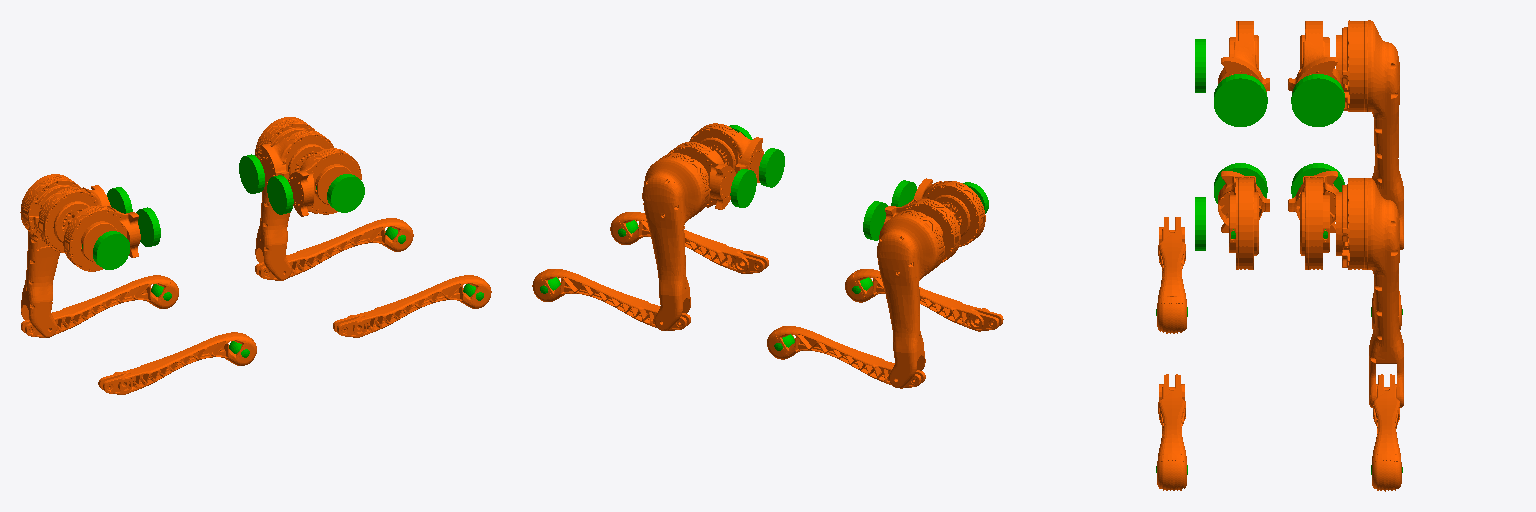
--- Render facts (derived) ---
3 views of the same robot in one strip: view 1: azimuth 30°, elevation 25°; view 2: azimuth 150°, elevation 25°; view 3: azimuth 270°, elevation 25° (orthographic).
Model b1_description with 30 links and 29 joints (12 revolute, 16 fixed, 1 floating), rooted at base, posed joints at zero except 4 at the middle of their limits (FR_calf_joint = -1.6, FL_calf_joint = -1.6, RR_calf_joint = -1.6, RL_calf_joint = -1.6).
Visible links, largest first — view 1: RL_thigh, FR_calf, RR_calf, FL_thigh, RR_hip, FR_hip, FL_calf, RL_calf, RL_hip, FL_hip, FR_calf_rotor, RR_calf_rotor (+3 smaller); view 2: RL_thigh, FL_thigh, RL_calf, FL_calf, FR_calf, RR_calf, RR_hip, FR_hip, FL_hip, RL_hip, FR_hip_rotor, FL_hip_rotor (+1 smaller); view 3: FL_thigh, RL_thigh, FR_hip, FL_hip, FR_calf, RR_calf, FL_calf, RR_hip_rotor, RL_hip_rotor, RL_hip, RR_hip, FR_hip_rotor (+3 smaller).
Boxes of the visible links, x1,y1,x2,y2 form: RL_thigh: (20,174,80,337); FR_calf: (333,275,491,337); RR_calf: (98,332,256,394); FL_thigh: (255,117,314,280); RR_hip: (63,206,140,271); FR_hip: (288,148,361,216); FL_calf: (255,218,413,280); RL_calf: (21,275,178,337); RL_hip: (38,185,110,252); FL_hip: (260,130,333,189); FR_calf_rotor: (327,174,364,212); RR_calf_rotor: (93,231,129,269); RL_thigh: (877,210,944,387); FL_thigh: (642,153,710,330); RL_calf: (767,326,925,388); FL_calf: (532,269,690,330); FR_calf: (610,212,768,273); RR_calf: (845,269,1003,331); RR_hip: (913,178,985,246); FR_hip: (689,123,763,182); FL_hip: (668,142,735,209); RL_hip: (884,199,960,263); FR_hip_rotor: (759,148,784,187); FL_hip_rotor: (730,169,756,207); FL_thigh: (1336,178,1403,407); RL_thigh: (1336,20,1403,249); FR_hip: (1218,171,1269,269); FL_hip: (1288,171,1338,269); FR_calf: (1157,374,1186,490); RR_calf: (1157,217,1186,333); FL_calf: (1372,374,1401,491); RR_hip_rotor: (1214,74,1267,126); RL_hip_rotor: (1291,74,1344,126); RL_hip: (1288,21,1340,91); RR_hip: (1218,21,1269,91); FR_hip_rotor: (1214,163,1267,203).
Size in the robot's own frame: 1.17 by 0.4595 by 0.465 metres.
Meshes: 5 distinct files referenced, 10 mesh visuals loaded (3 OBJ); not drawn: 3 (reference not matched to a file when rendering).

The robot description file, URDF, robot "b1_description":
<?xml version="1.0" ?>
<!-- =================================================================================== -->
<!-- |    This document was autogenerated by xacro from robot.xacro                    | -->
<!-- |    EDITING THIS FILE BY HAND IS NOT RECOMMENDED                                 | -->
<!-- =================================================================================== -->
<robot name="b1_description">
  <mujoco>
    <compiler meshdir="../meshes/" balanceinertia="true" discardvisual="false"/>
  </mujoco>
  <material name="black">
    <color rgba="0.0 0.0 0.0 1.0"/>
  </material>
  <material name="blue">
    <color rgba="0.0 0.0 0.8 1.0"/>
  </material>
  <material name="green">
    <color rgba="0.0 0.8 0.0 1.0"/>
  </material>
  <material name="grey">
    <color rgba="0.2 0.2 0.2 1.0"/>
  </material>
  <material name="silver">
    <color rgba="0.9137254901960784 0.9137254901960784 0.8470588235294118 1.0"/>
  </material>
  <material name="orange">
    <color rgba="1.0 0.4235294117647059 0.0392156862745098 1.0"/>
  </material>
  <material name="brown">
    <color rgba="0.8705882352941177 0.8117647058823529 0.7647058823529411 1.0"/>
  </material>
  <material name="red">
    <color rgba="0.8 0.0 0.0 1.0"/>
  </material>
  <material name="white">
    <color rgba="1.0 1.0 1.0 1.0"/>
  </material>
  
  <link name="base">
    <visual>
      <origin rpy="0 0 0" xyz="0 0 0"/>
      <geometry>
        <box size="0.001 0.001 0.001"/>
      </geometry>
    </visual>
  </link>
  <joint name="floating_base" type="floating">
    <origin rpy="0 0 0" xyz="0 0 0"/>
    <parent link="base"/>
    <child link="trunk"/>
  </joint>
  <link name="trunk">
    <visual>
      <origin rpy="1.5708 0 0" xyz="0 0 0"/>
      <geometry>
        <mesh filename="trunkb.obj" scale="1 1 1"/>
      </geometry>
      <material name="orange"/>
    </visual>
    <collision>
      <origin rpy="1.5708 0 0" xyz="0 0 0"/>
      <geometry>
        <mesh filename="trunkb.obj" scale="1 1 1"/>
      </geometry>
    </collision>
    <inertial>
      <origin rpy="0 0 0" xyz="0.008987 0.002243 0.003013"/>
      <mass value="29.45"/>
      <inertia ixx="0.183142146" ixy="-0.001379002" ixz="-0.027956055" iyy="0.756327752" iyz="0.000193774" izz="0.783777558"/>
    </inertial>
  </link>
  

  <joint name="FR_hip_joint" type="revolute">
    <origin rpy="0 0 0" xyz="0.3455 -0.072 0"/>
    <parent link="trunk"/>
    <child link="FR_hip"/>
    <axis xyz="1 0 0"/>
    <dynamics damping="0" friction="0"/>
    <limit effort="91.0035" lower="-0.75" upper="0.75" velocity="19.69"/>
  </joint>
  <joint name="FR_hip_rotor_joint" type="fixed">
    <origin rpy="0 0 0" xyz="0.1955 -0.072 0"/>
    <parent link="trunk"/>
    <child link="FR_hip_rotor"/>
  </joint>
  <link name="FR_hip">
    <visual>
      <origin rpy="1.57079632679 0 0" xyz="0 0 0"/>
      <geometry>
        <mesh filename="hipb.obj" scale="1 1 1"/>
      </geometry>
      <material name="orange"/>
    </visual>
    <collision>
      <origin rpy="1.57079632679 0 0" xyz="0 0 0"/>
      <geometry>
        <mesh filename="hipb.obj" scale="1 1 1"/>
      </geometry>
    </collision>
    <inertial>
      <origin rpy="0 0 0" xyz="-0.020298 -0.009758 0.000109"/>
      <mass value="2.15"/>
      <inertia ixx="0.00406608" ixy="0.000288071" ixz="-4.371e-06" iyy="0.008775259" iyz="-1.811e-06" izz="0.006060348"/>
    </inertial>
  </link>
  <link name="FR_hip_rotor">
    <visual>
      <origin rpy="0 1.5707963267948966 0" xyz="0 0 0"/>
      <geometry>
        <cylinder length="0.02" radius="0.05"/>
      </geometry>
      <material name="green"/>
    </visual>
    <collision>
      <origin rpy="0 1.5707963267948966 0" xyz="0 0 0"/>
      <geometry>
        <cylinder length="0.02" radius="0.05"/>
      </geometry>
    </collision>
    <inertial>
      <origin rpy="0 0 0" xyz="0.0 0.0 0.0"/>
      <mass value="0.199"/>
      <inertia ixx="0.00039249" ixy="0.0" ixz="0.0" iyy="0.000219397" iyz="0.0" izz="0.000219397"/>
    </inertial>
  </link>
  <joint name="FR_thigh_joint" type="revolute">
    <origin rpy="0 0 0" xyz="0 -0.12675 0"/>
    <parent link="FR_hip"/>
    <child link="FR_thigh"/>
    <axis xyz="0 1 0"/>
    <dynamics damping="0" friction="0"/>
    <limit effort="93.33" lower="-1.0" upper="3.5" velocity="23.32"/>
  </joint>
  <joint name="FR_thigh_rotor_joint" type="fixed">
    <origin rpy="0 0 0" xyz="0.0 -0.00935 0"/>
    <parent link="FR_hip"/>
    <child link="FR_thigh_rotor"/>
  </joint>
  <link name="FR_thigh">
    <visual>
      <origin rpy="1.57079632679 0 0" xyz="0 0 0"/>
      <geometry>
        <mesh filename="thigh_mirrorb.obj" scale="1 1 1"/>
      </geometry>
      <material name="orange"/>
    </visual>
    <collision>
      <origin rpy="1.57079632679 0 0" xyz="0 0 0"/>
      <geometry>
        <mesh filename="thigh_mirrorb.obj" scale="1 1 1"/>
      </geometry>
    </collision>
    <inertial>
      <origin rpy="0 0 0" xyz="-0.000235 0.028704 -0.054169"/>
      <mass value="4.3"/>
      <inertia ixx="0.044459086" ixy="-0.000128738" ixz="-0.002343913" iyy="0.046023457" iyz="-0.006032996" izz="0.008696078"/>
    </inertial>
  </link>
  <link name="FR_thigh_rotor">
    <visual>
      <origin rpy="1.5707963267948966 0 0" xyz="0 0 0"/>
      <geometry>
        <cylinder length="0.02" radius="0.05"/>
      </geometry>
      <material name="green"/>
    </visual>
    <collision>
      <origin rpy="1.5707963267948966 0 0" xyz="0 0 0"/>
      <geometry>
        <cylinder length="0.02" radius="0.05"/>
      </geometry>
    </collision>
    <inertial>
      <origin rpy="0 0 0" xyz="0.0 0.0 0.0"/>
      <mass value="0.266"/>
      <inertia ixx="0.000485657" ixy="0.0" ixz="0.0" iyy="0.00091885" iyz="0.0" izz="0.000485657"/>
    </inertial>
  </link>
  <joint name="FR_calf_joint" type="revolute">
    <origin rpy="0 0 0" xyz="0 0 -0.35"/>
    <parent link="FR_thigh"/>
    <child link="FR_calf"/>
    <axis xyz="0 1 0"/>
    <dynamics damping="0" friction="0"/>
    <limit effort="140" lower="-2.6" upper="-0.6" velocity="15.55"/>
  </joint>
  <joint name="FR_calf_rotor_joint" type="fixed">
    <origin rpy="0 0 0" xyz="0.0 0.0519 0"/>
    <parent link="FR_thigh"/>
    <child link="FR_calf_rotor"/>
  </joint>
  <link name="FR_calf">
    <visual>
      <origin rpy="1.57079632679 0 0" xyz="0 0 0"/>
      <geometry>
        <mesh filename="calfb.obj" scale="1 1 1"/>
      </geometry>
      <material name="orange"/>
    </visual>
    <collision>
      <origin rpy="1.57079632679 0 0" xyz="0 0 0"/>
      <geometry>
        <mesh filename="calfb.obj" scale="1 1 1"/>
      </geometry>
    </collision>
    <inertial>
      <origin rpy="0 0 0" xyz="0.005237 0.0 -0.202805"/>
      <mass value="1.05"/>
      <inertia ixx="0.015011003" ixy="5.2e-08" ixz="0.000250042" iyy="0.015159462" iyz="4.61e-07" izz="0.000375749"/>
    </inertial>
  </link>
  <link name="FR_calf_rotor">
    <visual>
      <origin rpy="1.5707963267948966 0 0" xyz="0 0 0"/>
      <geometry>
        <cylinder length="0.02" radius="0.05"/>
      </geometry>
      <material name="green"/>
    </visual>
    <collision>
      <origin rpy="1.5707963267948966 0 0" xyz="0 0 0"/>
      <geometry>
        <cylinder length="0.02" radius="0.05"/>
      </geometry>
    </collision>
    <inertial>
      <origin rpy="0 0 0" xyz="0.0 0.0 0.0"/>
      <mass value="0.266"/>
      <inertia ixx="0.000485657" ixy="0.0" ixz="0.0" iyy="0.00091885" iyz="0.0" izz="0.000485657"/>
    </inertial>
  </link>
  <joint name="FR_foot_fixed" type="fixed">
    <origin rpy="0 0 0" xyz="0 0 -0.35"/>
    <parent link="FR_calf"/>
    <child link="FR_foot"/>
  </joint>
  <link name="FR_foot">
    <visual>
      <origin rpy="0 0 0" xyz="0 0 0"/>
      <geometry>
        <sphere radius="0.03"/>
      </geometry>
      <material name="green"/>
    </visual>
    <collision>
      <origin rpy="0 0 0" xyz="0 0 0"/>
      <geometry>
        <sphere radius="0.04"/>
      </geometry>
    </collision>
    <inertial>
      <mass value="0.05"/>
      <inertia ixx="3.2000000000000005e-05" ixy="0.0" ixz="0.0" iyy="3.2000000000000005e-05" iyz="0.0" izz="3.2000000000000005e-05"/>
    </inertial>
  </link>
  
  <joint name="FL_hip_joint" type="revolute">
    <origin rpy="0 0 0" xyz="0.3455 0.072 0"/>
    <parent link="trunk"/>
    <child link="FL_hip"/>
    <axis xyz="1 0 0"/>
    <dynamics damping="0" friction="0"/>
    <limit effort="91.0035" lower="-0.75" upper="0.75" velocity="19.69"/>
  </joint>
  <joint name="FL_hip_rotor_joint" type="fixed">
    <origin rpy="0 0 0" xyz="0.1955 0.072 0"/>
    <parent link="trunk"/>
    <child link="FL_hip_rotor"/>
  </joint>
  <link name="FL_hip">
    <visual>
      <origin rpy="-1.5707963267948966 0 0" xyz="0 0 0"/>
      <geometry>
        <mesh filename="hipb.obj" scale="1 1 1"/>
      </geometry>
      <material name="orange"/>
    </visual>
    <collision>
      <origin rpy="-1.5707963267948966 0 0" xyz="0 0 0"/>
      <geometry>
        <mesh filename="hipb.obj" scale="1 1 1"/>
      </geometry>
    </collision>
    <inertial>
      <origin rpy="0 0 0" xyz="-0.020298 0.009758 0.000109"/>
      <mass value="2.15"/>
      <inertia ixx="0.00406608" ixy="-0.000288071" ixz="-4.371e-06" iyy="0.008775259" iyz="1.811e-06" izz="0.006060348"/>
    </inertial>
  </link>
  <link name="FL_hip_rotor">
    <visual>
      <origin rpy="0 1.5707963267948966 0" xyz="0 0 0"/>
      <geometry>
        <cylinder length="0.02" radius="0.05"/>
      </geometry>
      <material name="green"/>
    </visual>
    <collision>
      <origin rpy="0 1.5707963267948966 0" xyz="0 0 0"/>
      <geometry>
        <cylinder length="0.02" radius="0.05"/>
      </geometry>
    </collision>
    <inertial>
      <origin rpy="0 0 0" xyz="0.0 0.0 0.0"/>
      <mass value="0.199"/>
      <inertia ixx="0.00039249" ixy="0.0" ixz="0.0" iyy="0.000219397" iyz="0.0" izz="0.000219397"/>
    </inertial>
  </link>
  <joint name="FL_thigh_joint" type="revolute">
    <origin rpy="0 0 0" xyz="0 0.12675 0"/>
    <parent link="FL_hip"/>
    <child link="FL_thigh"/>
    <axis xyz="0 1 0"/>
    <dynamics damping="0" friction="0"/>
    <limit effort="93.33" lower="-1.0" upper="3.5" velocity="23.32"/>
  </joint>
  <joint name="FL_thigh_rotor_joint" type="fixed">
    <origin rpy="0 0 0" xyz="0.0 0.00935 0"/>
    <parent link="FL_hip"/>
    <child link="FL_thigh_rotor"/>
  </joint>
  <link name="FL_thigh">
    <visual>
      <origin rpy="1.5707963267948966 0 0" xyz="0 0 0"/>
      <geometry>
        <mesh filename="thighb.obj" scale="1 1 1"/>
      </geometry>
      <material name="orange"/>
    </visual>
    <collision>
      <origin rpy="1.5707963267948966 0 0" xyz="0 0 0"/>
      <geometry>
        <mesh filename="thighb.obj" scale="1 1 1"/>
      </geometry>
    </collision>
    <inertial>
      <origin rpy="0 0 0" xyz="-0.000235 -0.028704 -0.054169"/>
      <mass value="4.3"/>
      <inertia ixx="0.044459086" ixy="0.000128738" ixz="-0.002343913" iyy="0.046023457" iyz="0.006032996" izz="0.008696078"/>
    </inertial>
  </link>
  <link name="FL_thigh_rotor">
    <visual>
      <origin rpy="1.5707963267948966 0 0" xyz="0 0 0"/>
      <geometry>
        <cylinder length="0.02" radius="0.05"/>
      </geometry>
      <material name="green"/>
    </visual>
    <collision>
      <origin rpy="1.5707963267948966 0 0" xyz="0 0 0"/>
      <geometry>
        <cylinder length="0.02" radius="0.05"/>
      </geometry>
    </collision>
    <inertial>
      <origin rpy="0 0 0" xyz="0.0 0.0 0.0"/>
      <mass value="0.266"/>
      <inertia ixx="0.000485657" ixy="0.0" ixz="0.0" iyy="0.00091885" iyz="0.0" izz="0.000485657"/>
    </inertial>
  </link>
  <joint name="FL_calf_joint" type="revolute">
    <origin rpy="0 0 0" xyz="0 0 -0.35"/>
    <parent link="FL_thigh"/>
    <child link="FL_calf"/>
    <axis xyz="0 1 0"/>
    <dynamics damping="0" friction="0"/>
    <limit effort="140" lower="-2.6" upper="-0.6" velocity="15.55"/>
  </joint>
  <joint name="FL_calf_rotor_joint" type="fixed">
    <origin rpy="0 0 0" xyz="0.0 -0.0519 0"/>
    <parent link="FL_thigh"/>
    <child link="FL_calf_rotor"/>
  </joint>
  <link name="FL_calf">
    <visual>
      <origin rpy="1.5707963267948966 0 0" xyz="0 0 0"/>
      <geometry>
        <mesh filename="calfb.obj" scale="1 1 1"/>
      </geometry>
      <material name="orange"/>
    </visual>
    <collision>
      <origin rpy="1.5707963267948966 0 0" xyz="0 0 0"/>
      <geometry>
        <mesh filename="calfb.obj" scale="1 1 1"/>
      </geometry>
    </collision>
    <inertial>
      <origin rpy="0 0 0" xyz="0.005237 0.0 -0.202805"/>
      <mass value="1.05"/>
      <inertia ixx="0.015011003" ixy="5.2e-08" ixz="0.000250042" iyy="0.015159462" iyz="4.61e-07" izz="0.000375749"/>
    </inertial>
  </link>
  <link name="FL_calf_rotor">
    <visual>
      <origin rpy="1.5707963267948966 0 0" xyz="0 0 0"/>
      <geometry>
        <cylinder length="0.02" radius="0.05"/>
      </geometry>
      <material name="green"/>
    </visual>
    <collision>
      <origin rpy="1.5707963267948966 0 0" xyz="0 0 0"/>
      <geometry>
        <cylinder length="0.02" radius="0.05"/>
      </geometry>
    </collision>
    <inertial>
      <origin rpy="0 0 0" xyz="0.0 0.0 0.0"/>
      <mass value="0.266"/>
      <inertia ixx="0.000485657" ixy="0.0" ixz="0.0" iyy="0.00091885" iyz="0.0" izz="0.000485657"/>
    </inertial>
  </link>
  <joint name="FL_foot_fixed" type="fixed">
    <origin rpy="0 0 0" xyz="0 0 -0.35"/>
    <parent link="FL_calf"/>
    <child link="FL_foot"/>
  </joint>
  <link name="FL_foot">
    <visual>
      <origin rpy="0 0 0" xyz="0 0 0"/>
      <geometry>
        <sphere radius="0.03"/>
      </geometry>
      <material name="green"/>
    </visual>
    <collision>
      <origin rpy="0 0 0" xyz="0 0 0"/>
      <geometry>
        <sphere radius="0.04"/>
      </geometry>
    </collision>
    <inertial>
      <mass value="0.05"/>
      <inertia ixx="3.2000000000000005e-05" ixy="0.0" ixz="0.0" iyy="3.2000000000000005e-05" iyz="0.0" izz="3.2000000000000005e-05"/>
    </inertial>
  </link>
  
  <joint name="RR_hip_joint" type="revolute">
    <origin rpy="0 0 0" xyz="-0.3455 -0.072 0"/>
    <parent link="trunk"/>
    <child link="RR_hip"/>
    <axis xyz="1 0 0"/>
    <dynamics damping="0" friction="0"/>
    <limit effort="91.0035" lower="-0.75" upper="0.75" velocity="19.69"/>
  </joint>
  <joint name="RR_hip_rotor_joint" type="fixed">
    <origin rpy="0 0 0" xyz="-0.1955 -0.072 0"/>
    <parent link="trunk"/>
    <child link="RR_hip_rotor"/>
  </joint>
  <link name="RR_hip">
    <visual>
      <origin rpy="1.5707963267948966 3.141592653589793 0" xyz="0 0 0"/>
      <geometry>
        <mesh filename="hipb.obj" scale="1 1 1"/>
      </geometry>
      <material name="orange"/>
    </visual>
    <collision>
      <origin rpy="1.5707963267948966 3.141592653589793 0" xyz="0 0 0"/>
      <geometry>
        <mesh filename="hipb.obj" scale="1 1 1"/>
      </geometry>
    </collision>
    <inertial>
      <origin rpy="0 0 0" xyz="0.020298 -0.009758 0.000109"/>
      <mass value="2.15"/>
      <inertia ixx="0.00406608" ixy="-0.000288071" ixz="4.371e-06" iyy="0.008775259" iyz="-1.811e-06" izz="0.006060348"/>
    </inertial>
  </link>
  <link name="RR_hip_rotor">
    <visual>
      <origin rpy="0 1.5707963267948966 0" xyz="0 0 0"/>
      <geometry>
        <cylinder length="0.02" radius="0.05"/>
      </geometry>
      <material name="green"/>
    </visual>
    <collision>
      <origin rpy="0 1.5707963267948966 0" xyz="0 0 0"/>
      <geometry>
        <cylinder length="0.02" radius="0.05"/>
      </geometry>
    </collision>
    <inertial>
      <origin rpy="0 0 0" xyz="0.0 0.0 0.0"/>
      <mass value="0.199"/>
      <inertia ixx="0.00039249" ixy="0.0" ixz="0.0" iyy="0.000219397" iyz="0.0" izz="0.000219397"/>
    </inertial>
  </link>
  <joint name="RR_thigh_joint" type="revolute">
    <origin rpy="0 0 0" xyz="0 -0.12675 0"/>
    <parent link="RR_hip"/>
    <child link="RR_thigh"/>
    <axis xyz="0 1 0"/>
    <dynamics damping="0" friction="0"/>
    <limit effort="93.33" lower="-1.0" upper="3.5" velocity="23.32"/>
  </joint>
  <joint name="RR_thigh_rotor_joint" type="fixed">
    <origin rpy="0 0 0" xyz="0.0 -0.00935 0"/>
    <parent link="RR_hip"/>
    <child link="RR_thigh_rotor"/>
  </joint>
  <link name="RR_thigh">
    <visual>
      <origin rpy="1.5707963267948966 0 0" xyz="0 0 0"/>
      <geometry>
        <mesh filename="thigh_mirrorb.obj" scale="1 1 1"/>
      </geometry>
      <material name="orange"/>
    </visual>
    <collision>
      <origin rpy="1.5707963267948966 0 0" xyz="0 0 0"/>
      <geometry>
        <mesh filename="thigh_mirrorb.obj" scale="1 1 1"/>
      </geometry>
    </collision>
    <inertial>
      <origin rpy="0 0 0" xyz="-0.000235 0.028704 -0.054169"/>
      <mass value="4.3"/>
      <inertia ixx="0.044459086" ixy="-0.000128738" ixz="-0.002343913" iyy="0.046023457" iyz="-0.006032996" izz="0.008696078"/>
    </inertial>
  </link>
  <link name="RR_thigh_rotor">
    <visual>
      <origin rpy="1.5707963267948966 0 0" xyz="0 0 0"/>
      <geometry>
        <cylinder length="0.02" radius="0.05"/>
      </geometry>
      <material name="green"/>
    </visual>
    <collision>
      <origin rpy="1.5707963267948966 0 0" xyz="0 0 0"/>
      <geometry>
        <cylinder length="0.02" radius="0.05"/>
      </geometry>
    </collision>
    <inertial>
      <origin rpy="0 0 0" xyz="0.0 0.0 0.0"/>
      <mass value="0.266"/>
      <inertia ixx="0.000485657" ixy="0.0" ixz="0.0" iyy="0.00091885" iyz="0.0" izz="0.000485657"/>
    </inertial>
  </link>
  <joint name="RR_calf_joint" type="revolute">
    <origin rpy="0 0 0" xyz="0 0 -0.35"/>
    <parent link="RR_thigh"/>
    <child link="RR_calf"/>
    <axis xyz="0 1 0"/>
    <dynamics damping="0" friction="0"/>
    <limit effort="140" lower="-2.6" upper="-0.6" velocity="15.55"/>
  </joint>
  <joint name="RR_calf_rotor_joint" type="fixed">
    <origin rpy="0 0 0" xyz="0.0 0.0519 0"/>
    <parent link="RR_thigh"/>
    <child link="RR_calf_rotor"/>
  </joint>
  <link name="RR_calf">
    <visual>
      <origin rpy="1.5707963267948966 0 0" xyz="0 0 0"/>
      <geometry>
        <mesh filename="calfb.obj" scale="1 1 1"/>
      </geometry>
      <material name="orange"/>
    </visual>
    <collision>
      <origin rpy="1.5707963267948966 0 0" xyz="0 0 0"/>
      <geometry>
        <mesh filename="calfb.obj" scale="1 1 1"/>
      </geometry>
    </collision>
    <inertial>
      <origin rpy="0 0 0" xyz="0.005237 0.0 -0.202805"/>
      <mass value="1.05"/>
      <inertia ixx="0.015011003" ixy="5.2e-08" ixz="0.000250042" iyy="0.015159462" iyz="4.61e-07" izz="0.000375749"/>
    </inertial>
  </link>
  <link name="RR_calf_rotor">
    <visual>
      <origin rpy="1.5707963267948966 0 0" xyz="0 0 0"/>
      <geometry>
        <cylinder length="0.02" radius="0.05"/>
      </geometry>
      <material name="green"/>
    </visual>
    <collision>
      <origin rpy="1.5707963267948966 0 0" xyz="0 0 0"/>
      <geometry>
        <cylinder length="0.02" radius="0.05"/>
      </geometry>
    </collision>
    <inertial>
      <origin rpy="0 0 0" xyz="0.0 0.0 0.0"/>
      <mass value="0.266"/>
      <inertia ixx="0.000485657" ixy="0.0" ixz="0.0" iyy="0.00091885" iyz="0.0" izz="0.000485657"/>
    </inertial>
  </link>
  <joint name="RR_foot_fixed" type="fixed">
    <origin rpy="0 0 0" xyz="0 0 -0.35"/>
    <parent link="RR_calf"/>
    <child link="RR_foot"/>
  </joint>
  <link name="RR_foot">
    <visual>
      <origin rpy="0 0 0" xyz="0 0 0"/>
      <geometry>
        <sphere radius="0.03"/>
      </geometry>
      <material name="green"/>
    </visual>
    <collision>
      <origin rpy="0 0 0" xyz="0 0 0"/>
      <geometry>
        <sphere radius="0.04"/>
      </geometry>
    </collision>
    <inertial>
      <mass value="0.05"/>
      <inertia ixx="3.2000000000000005e-05" ixy="0.0" ixz="0.0" iyy="3.2000000000000005e-05" iyz="0.0" izz="3.2000000000000005e-05"/>
    </inertial>
  </link>
  
  <joint name="RL_hip_joint" type="revolute">
    <origin rpy="0 0 0" xyz="-0.3455 0.072 0"/>
    <parent link="trunk"/>
    <child link="RL_hip"/>
    <axis xyz="1 0 0"/>
    <dynamics damping="0" friction="0"/>
    <limit effort="91.0035" lower="-0.75" upper="0.75" velocity="19.69"/>
  </joint>
  <joint name="RL_hip_rotor_joint" type="fixed">
    <origin rpy="0 0 0" xyz="-0.1955 0.072 0"/>
    <parent link="trunk"/>
    <child link="RL_hip_rotor"/>
  </joint>
  <link name="RL_hip">
    <visual>
      <origin rpy="-1.5707963267948966 3.141592653589793 0" xyz="0 0 0"/>
      <geometry>
        <mesh filename="hipb.obj" scale="1 1 1"/>
      </geometry>
      <material name="orange"/>
    </visual>
    <collision>
      <origin rpy="-1.5707963267948966 3.141592653589793 0" xyz="0 0 0"/>
      <geometry>
        <mesh filename="hipb.obj" scale="1 1 1"/>
      </geometry>
    </collision>
    <inertial>
      <origin rpy="0 0 0" xyz="0.020298 0.009758 0.000109"/>
      <mass value="2.15"/>
      <inertia ixx="0.00406608" ixy="0.000288071" ixz="4.371e-06" iyy="0.008775259" iyz="1.811e-06" izz="0.006060348"/>
    </inertial>
  </link>
  <link name="RL_hip_rotor">
    <visual>
      <origin rpy="0 1.5707963267948966 0" xyz="0 0 0"/>
      <geometry>
        <cylinder length="0.02" radius="0.05"/>
      </geometry>
      <material name="green"/>
    </visual>
    <collision>
      <origin rpy="0 1.5707963267948966 0" xyz="0 0 0"/>
      <geometry>
        <cylinder length="0.02" radius="0.05"/>
      </geometry>
    </collision>
    <inertial>
      <origin rpy="0 0 0" xyz="0.0 0.0 0.0"/>
      <mass value="0.199"/>
      <inertia ixx="0.00039249" ixy="0.0" ixz="0.0" iyy="0.000219397" iyz="0.0" izz="0.000219397"/>
    </inertial>
  </link>
  <joint name="RL_thigh_joint" type="revolute">
    <origin rpy="0 0 0" xyz="0 0.12675 0"/>
    <parent link="RL_hip"/>
    <child link="RL_thigh"/>
    <axis xyz="0 1 0"/>
    <dynamics damping="0" friction="0"/>
    <limit effort="93.33" lower="-1.0" upper="3.5" velocity="23.32"/>
  </joint>
  <joint name="RL_thigh_rotor_joint" type="fixed">
    <origin rpy="0 0 0" xyz="0.0 0.00935 0"/>
    <parent link="RL_hip"/>
    <child link="RL_thigh_rotor"/>
  </joint>
  <link name="RL_thigh">
    <visual>
      <origin rpy="1.5707963267948966 0 0" xyz="0 0 0"/>
      <geometry>
        <mesh filename="thighb.obj" scale="1 1 1"/>
      </geometry>
      <material name="orange"/>
    </visual>
    <collision>
      <origin rpy="1.5707963267948966 0 0" xyz="0 0 0"/>
      <geometry>
        <mesh filename="thighb.obj" scale="1 1 1"/>
      </geometry>
    </collision>
    <inertial>
      <origin rpy="0 0 0" xyz="-0.000235 -0.028704 -0.054169"/>
      <mass value="4.3"/>
      <inertia ixx="0.044459086" ixy="0.000128738" ixz="-0.002343913" iyy="0.046023457" iyz="0.006032996" izz="0.008696078"/>
    </inertial>
  </link>
  <link name="RL_thigh_rotor">
    <visual>
      <origin rpy="1.5707963267948966 0 0" xyz="0 0 0"/>
      <geometry>
        <cylinder length="0.02" radius="0.05"/>
      </geometry>
      <material name="green"/>
    </visual>
    <collision>
      <origin rpy="1.5707963267948966 0 0" xyz="0 0 0"/>
      <geometry>
        <cylinder length="0.02" radius="0.05"/>
      </geometry>
    </collision>
    <inertial>
      <origin rpy="0 0 0" xyz="0.0 0.0 0.0"/>
      <mass value="0.266"/>
      <inertia ixx="0.000485657" ixy="0.0" ixz="0.0" iyy="0.00091885" iyz="0.0" izz="0.000485657"/>
    </inertial>
  </link>
  <joint name="RL_calf_joint" type="revolute">
    <origin rpy="0 0 0" xyz="0 0 -0.35"/>
    <parent link="RL_thigh"/>
    <child link="RL_calf"/>
    <axis xyz="0 1 0"/>
    <dynamics damping="0" friction="0"/>
    <limit effort="140" lower="-2.6" upper="-0.6" velocity="15.55"/>
  </joint>
  <joint name="RL_calf_rotor_joint" type="fixed">
    <origin rpy="0 0 0" xyz="0.0 -0.0519 0"/>
    <parent link="RL_thigh"/>
    <child link="RL_calf_rotor"/>
  </joint>
  <link name="RL_calf">
    <visual>
      <origin rpy="1.5707963267948966 0 0" xyz="0 0 0"/>
      <geometry>
        <mesh filename="calfb.obj" scale="1 1 1"/>
      </geometry>
      <material name="orange"/>
    </visual>
    <collision>
      <origin rpy="1.5707963267948966 0 0" xyz="0 0 0"/>
      <geometry>
        <mesh filename="calfb.obj" scale="1 1 1"/>
      </geometry>
    </collision>
    <inertial>
      <origin rpy="0 0 0" xyz="0.005237 0.0 -0.202805"/>
      <mass value="1.05"/>
      <inertia ixx="0.015011003" ixy="5.2e-08" ixz="0.000250042" iyy="0.015159462" iyz="4.61e-07" izz="0.000375749"/>
    </inertial>
  </link>
  <link name="RL_calf_rotor">
    <visual>
      <origin rpy="1.5707963267948966 0 0" xyz="0 0 0"/>
      <geometry>
        <cylinder length="0.02" radius="0.05"/>
      </geometry>
      <material name="green"/>
    </visual>
    <collision>
      <origin rpy="1.5707963267948966 0 0" xyz="0 0 0"/>
      <geometry>
        <cylinder length="0.02" radius="0.05"/>
      </geometry>
    </collision>
    <inertial>
      <origin rpy="0 0 0" xyz="0.0 0.0 0.0"/>
      <mass value="0.266"/>
      <inertia ixx="0.000485657" ixy="0.0" ixz="0.0" iyy="0.00091885" iyz="0.0" izz="0.000485657"/>
    </inertial>
  </link>
  <joint name="RL_foot_fixed" type="fixed">
    <origin rpy="0 0 0" xyz="0 0 -0.35"/>
    <parent link="RL_calf"/>
    <child link="RL_foot"/>
  </joint>
  <link name="RL_foot">
    <visual>
      <origin rpy="0 0 0" xyz="0 0 0"/>
      <geometry>
        <sphere radius="0.03"/>
      </geometry>
      <material name="green"/>
    </visual>
    <collision>
      <origin rpy="0 0 0" xyz="0 0 0"/>
      <geometry>
        <sphere radius="0.04"/>
      </geometry>
    </collision>
    <inertial>
      <mass value="0.05"/>
      <inertia ixx="3.2000000000000005e-05" ixy="0.0" ixz="0.0" iyy="3.2000000000000005e-05" iyz="0.0" izz="3.2000000000000005e-05"/>
    </inertial>
  </link>
  
</robot>
